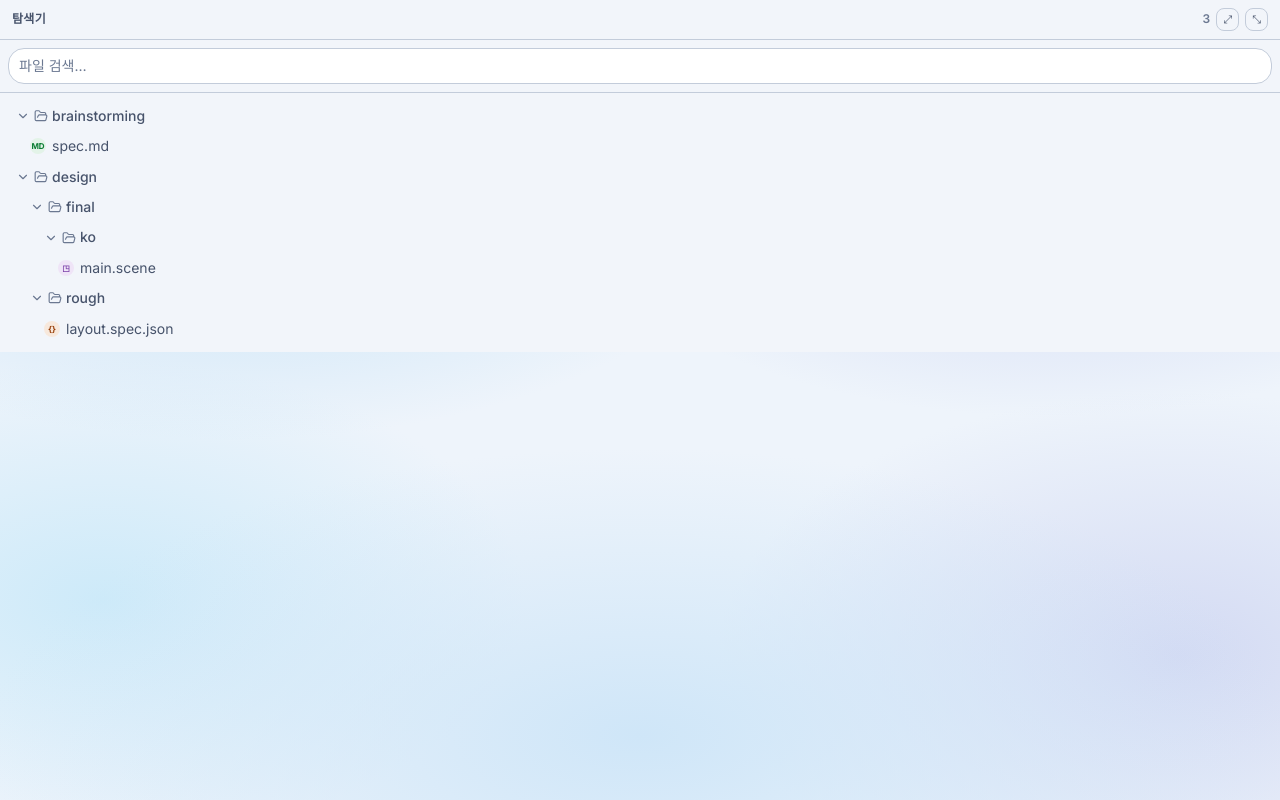
FileTree 검색 › 매치 0건이면 안내 문구
This screenshot has width=1280, height=800.
Type "zzz없음" into the search field with placeholder "파일 검색…" at x=640, y=66, box [8,48,1272,84]
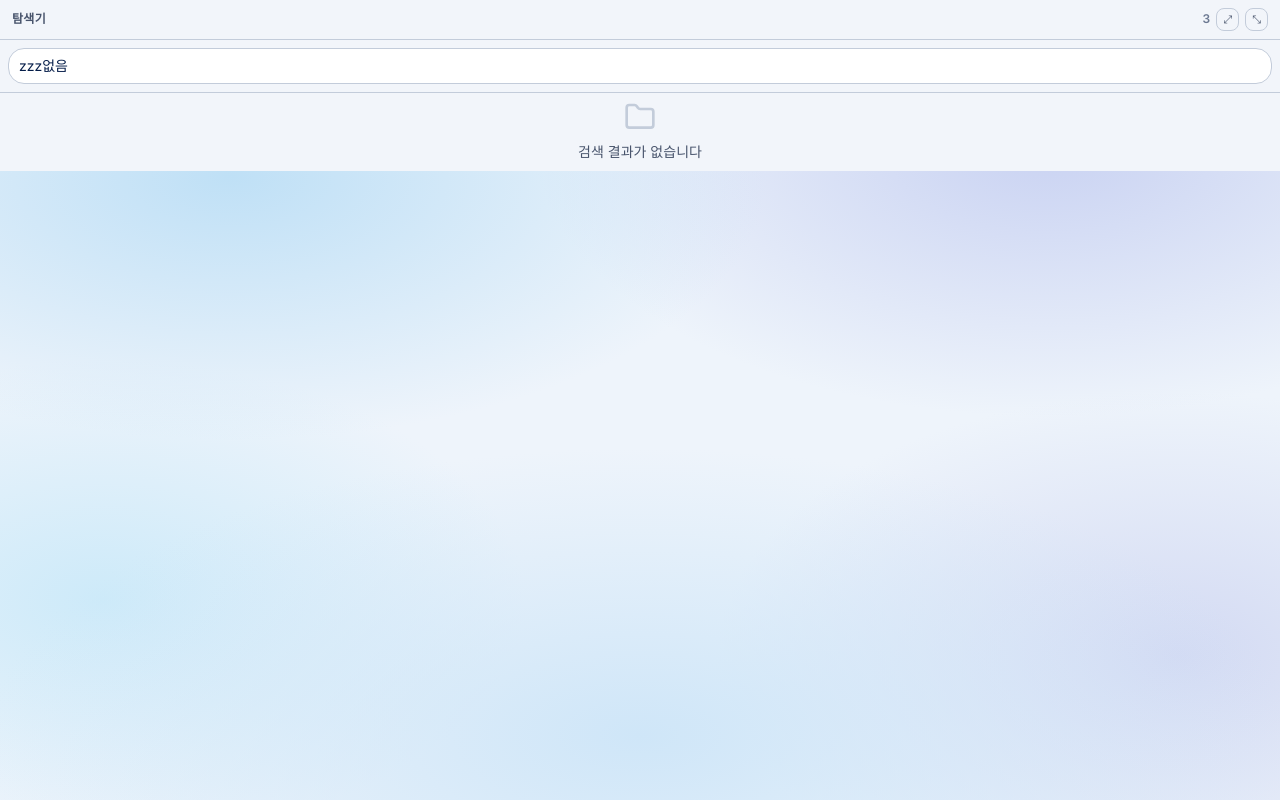
Expected: the text "검색 결과가 없습니다" is shown, [578,141,702,163]
